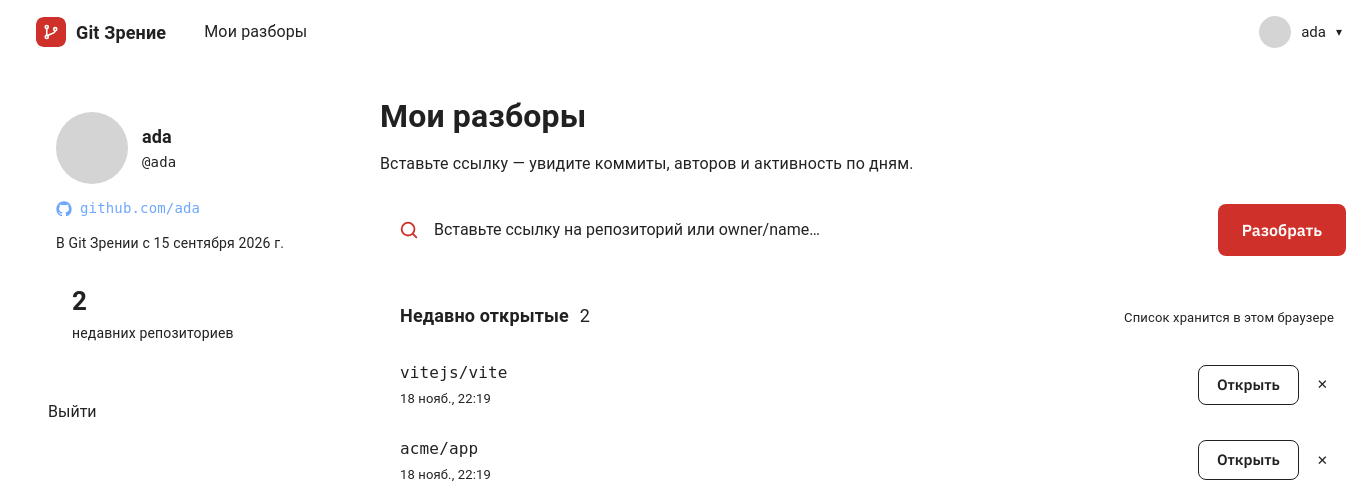
Мои разборы › показывает недавно открытые, открывает и удаляет их
Expected: the heading "Недавно открытые 2" is shown, [400,302,590,329]
Click the button named "Убрать vitejs/vite из списка" at (1322, 385), box [1311,371,1334,398]
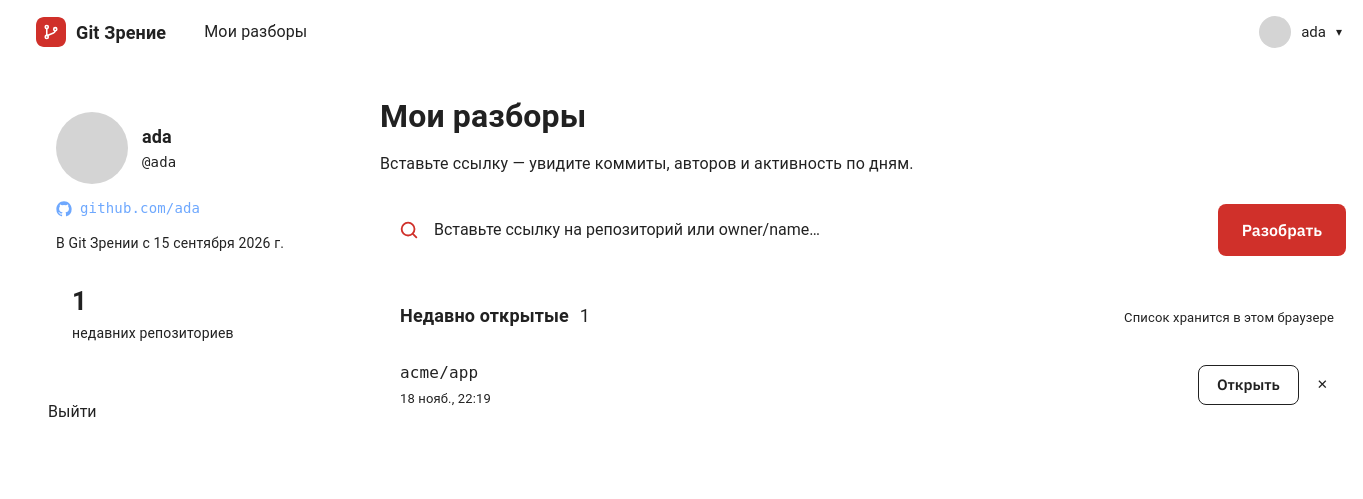
Now the text "vitejs/vite" is gone
Click the button "Открыть" at (1248, 385), box [1198,365,1299,405]
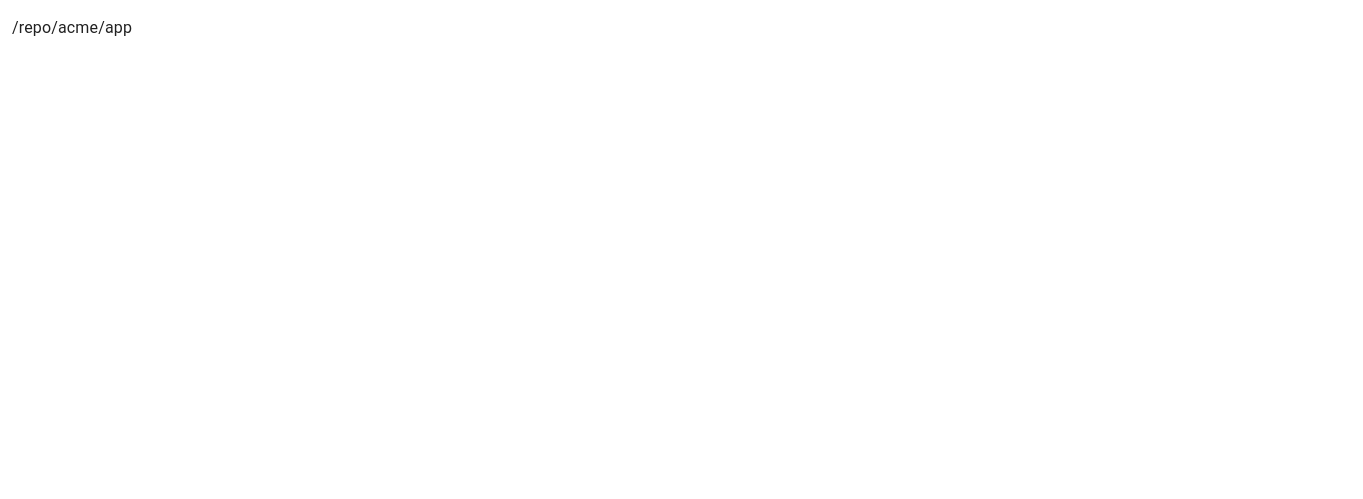
Now the text with test id "path" reads "/repo/acme/app", box [12,18,132,37]
